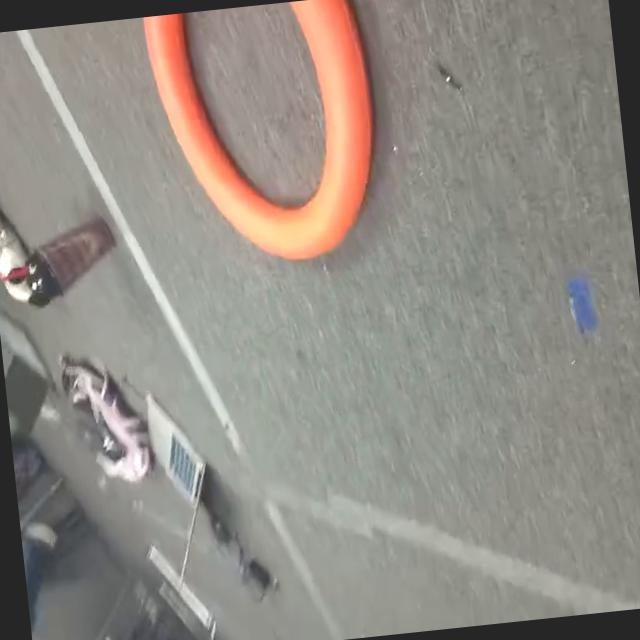note: (133, 0, 399, 284)
